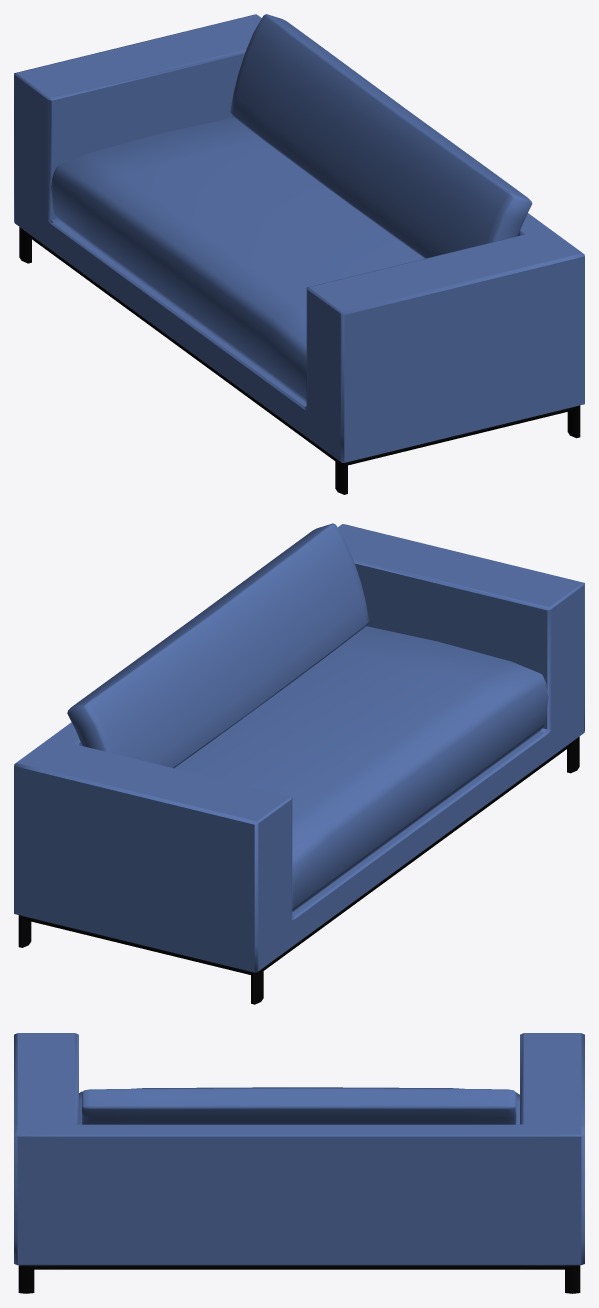
The model's file is meko knba 13.fbx.
3 renders of one model, top to bottom at view 1: azimuth 30°, elevation 25°; view 2: azimuth 150°, elevation 25°; view 3: azimuth 270°, elevation 25°, orthographic. The views are drawn at different scales.
Visible parts, largest first — view 1: pasted__pasted__base, pasted__pasted__seat, pasted__pasted__back, pasted__pasted__metal; view 2: pasted__pasted__base, pasted__pasted__seat, pasted__pasted__back, pasted__pasted__metal; view 3: pasted__pasted__base, pasted__pasted__back, pasted__pasted__metal, pasted__pasted__seat.
Boxes of the visible parts, x1,y1,x2,y2 form: pasted__pasted__base: (14,14,584,462); pasted__pasted__seat: (51,117,424,402); pasted__pasted__back: (230,14,532,258); pasted__pasted__metal: (19,227,580,494); pasted__pasted__base: (14,524,584,972); pasted__pasted__seat: (174,626,548,912); pasted__pasted__back: (67,523,369,768); pasted__pasted__metal: (18,736,579,1004); pasted__pasted__base: (14,1033,584,1265); pasted__pasted__back: (82,1088,516,1124); pasted__pasted__metal: (18,1265,580,1293); pasted__pasted__seat: (79,1087,519,1124).
Size of the model in its own units: 74.94 by 65.04 by 176.
